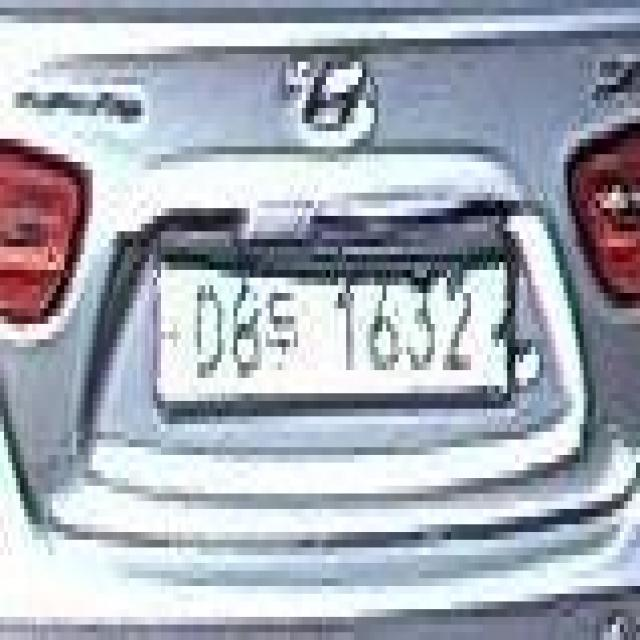illegal_plate: (155, 249, 514, 406)
